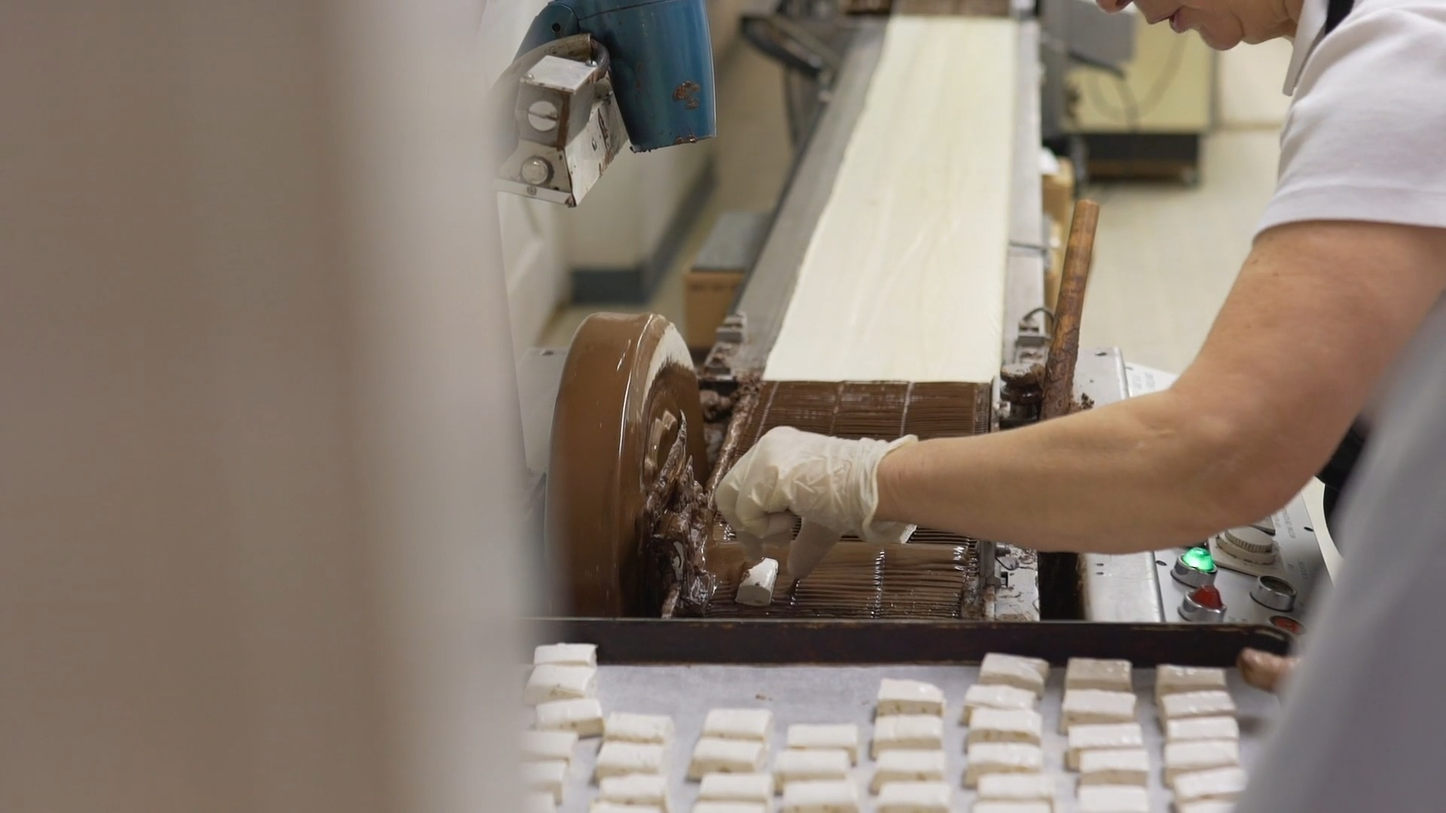gloves: (697, 397, 975, 573)
